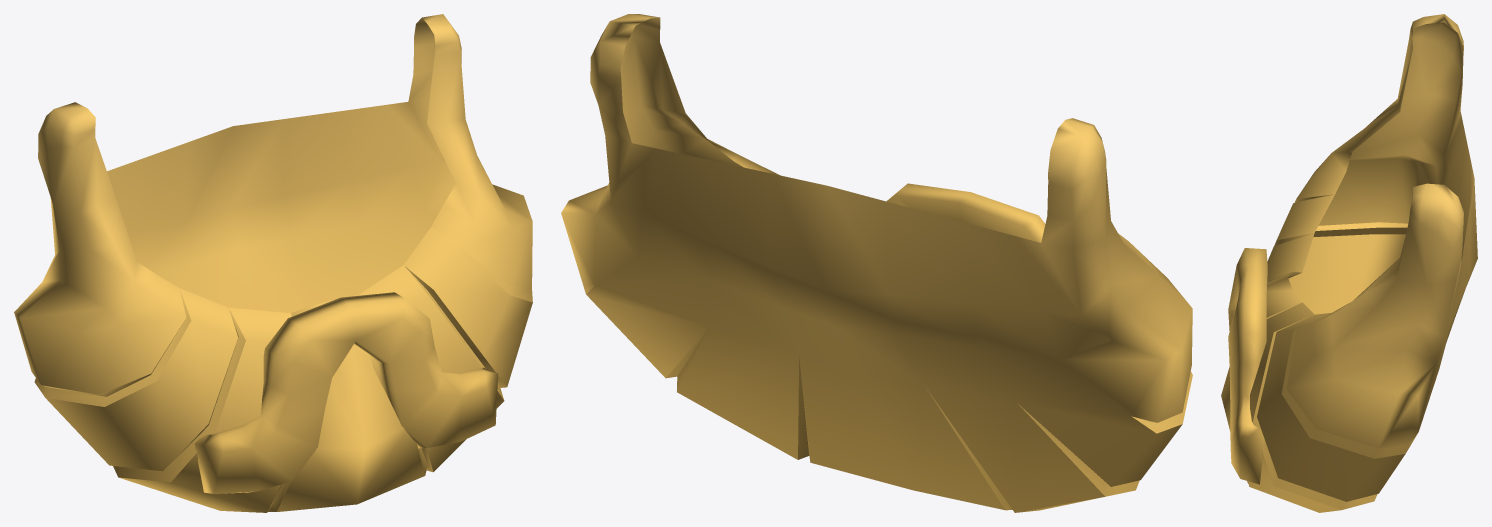
Rendered from Beard_Yellow_17.fbx.
3 views of the same model, side by side, from view 1: azimuth 30°, elevation 25°; view 2: azimuth 150°, elevation 25°; view 3: azimuth 270°, elevation 25° (orthographic). The views are drawn at different scales.
Parts seen in each view (by area): view 1: Beard_Yellow_17; view 2: Beard_Yellow_17; view 3: Beard_Yellow_17.
Boxes of the visible parts, left/top/right/bottom form: Beard_Yellow_17: left=14, top=14, right=532, bottom=512; Beard_Yellow_17: left=561, top=14, right=1192, bottom=512; Beard_Yellow_17: left=1221, top=14, right=1477, bottom=512.
Size of the model in its own units: 64.08 by 47.7 by 29.49.
